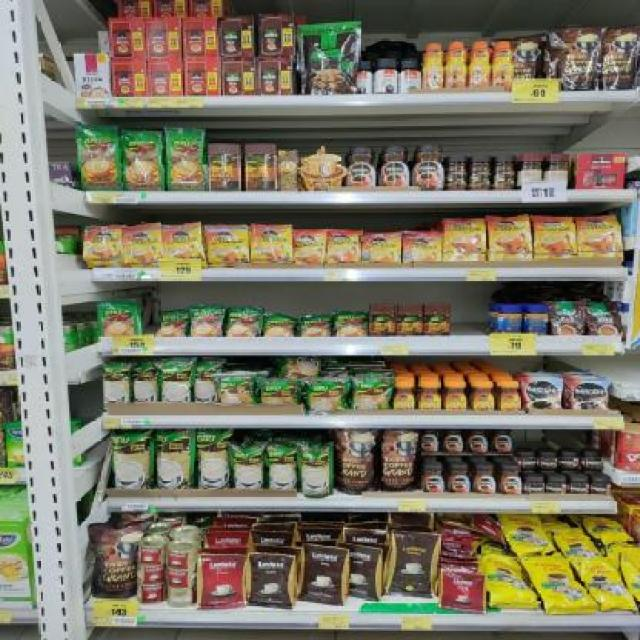Coffee: (580, 218, 622, 260), (490, 218, 532, 260), (535, 217, 577, 258), (446, 220, 486, 260), (412, 145, 445, 192), (85, 228, 123, 266), (124, 226, 161, 265), (208, 226, 247, 262), (252, 226, 291, 262), (570, 379, 607, 410), (381, 147, 410, 186), (347, 148, 376, 186), (362, 233, 400, 262), (165, 227, 200, 258), (525, 379, 560, 409), (404, 233, 441, 261), (294, 231, 326, 263), (329, 230, 358, 262), (470, 42, 490, 87), (446, 42, 465, 87), (493, 42, 512, 86), (425, 43, 443, 88), (418, 382, 440, 410), (498, 382, 520, 410), (474, 381, 494, 410), (448, 466, 470, 492), (444, 382, 464, 410), (474, 468, 495, 494), (394, 382, 414, 409), (423, 466, 443, 492), (501, 469, 521, 493), (468, 430, 487, 452), (420, 430, 438, 452), (444, 430, 461, 452), (494, 431, 511, 452), (568, 478, 589, 493), (581, 456, 604, 469), (538, 454, 557, 469), (526, 479, 546, 493), (591, 480, 611, 494), (558, 454, 577, 468), (547, 479, 565, 493), (520, 454, 536, 468)
